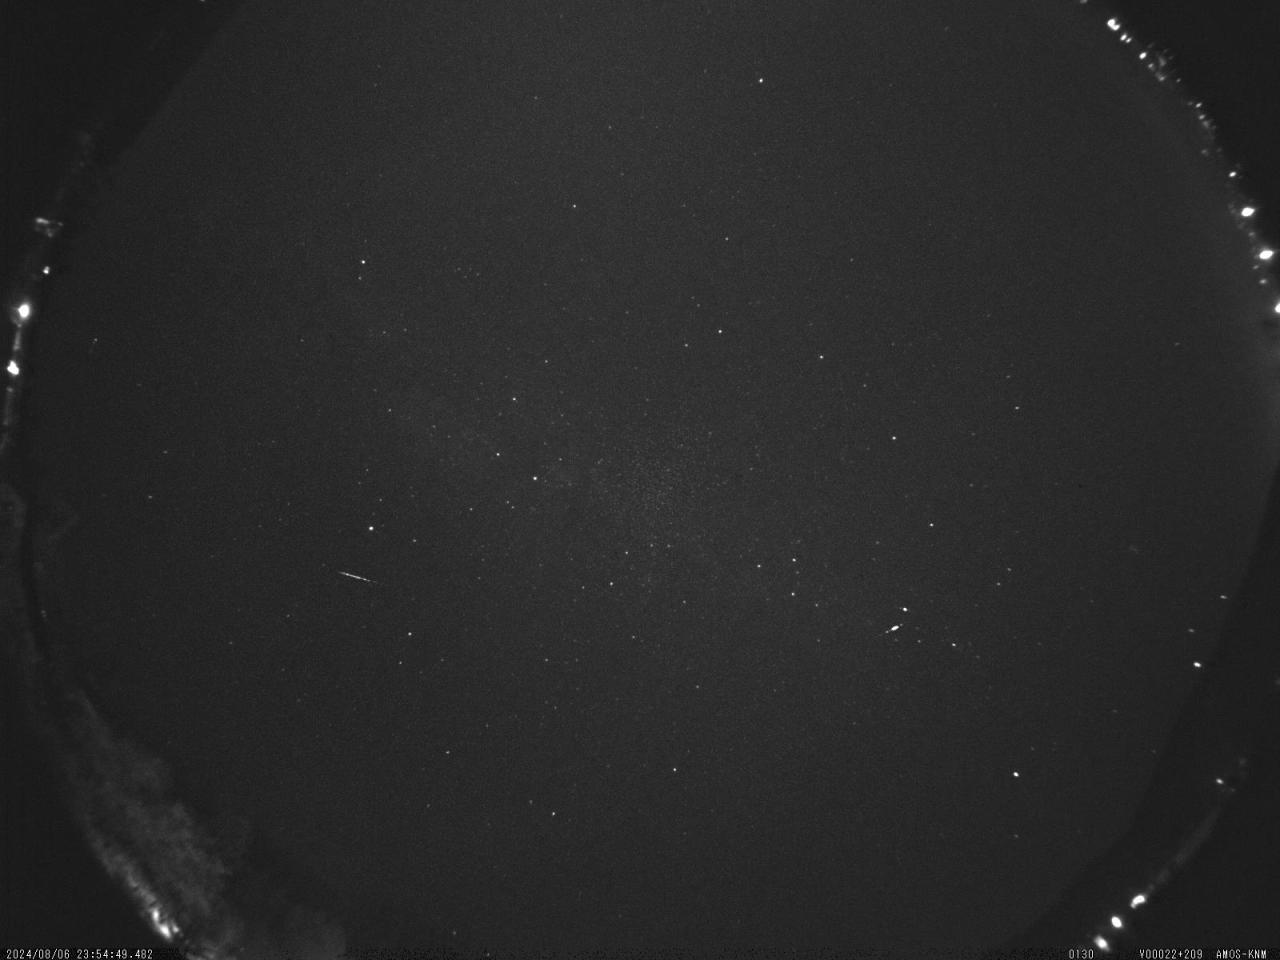Meteor: (332, 565, 378, 589)
